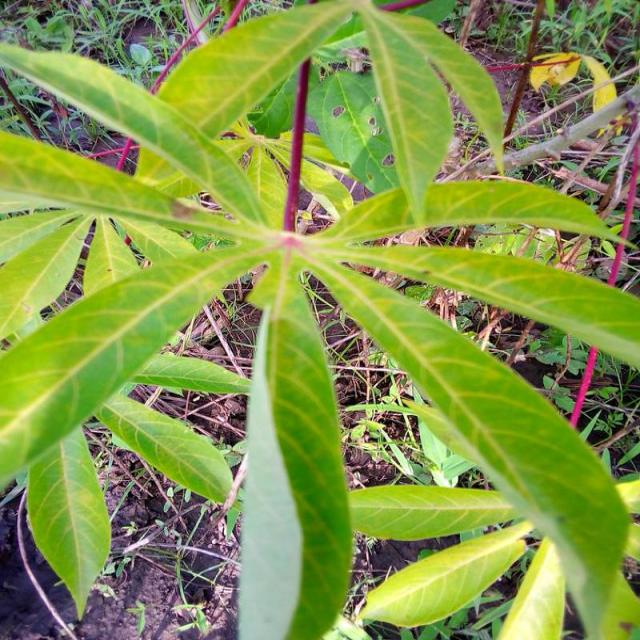cassava leaf: (2, 1, 638, 637), (238, 265, 354, 638)
